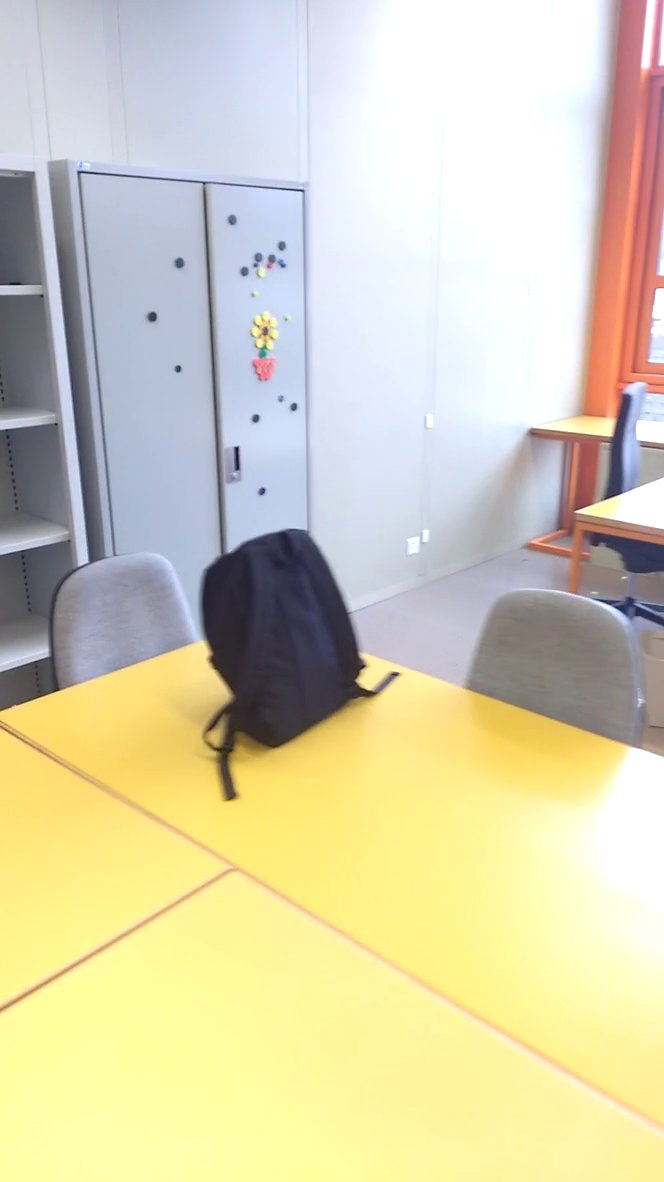bag: (199, 519, 401, 805)
chair: (443, 572, 654, 785), (40, 544, 213, 705), (571, 356, 664, 653)
